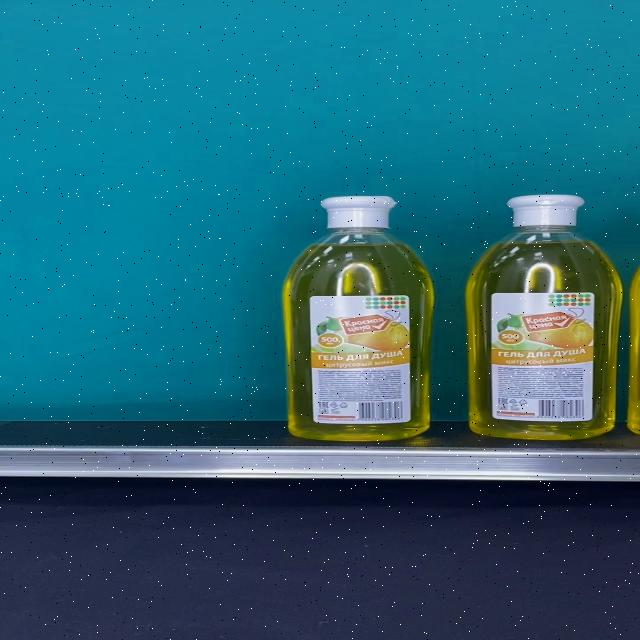Bottle: (464, 194, 623, 439), (284, 195, 434, 441)
Cap: (320, 195, 398, 229), (506, 194, 586, 227)
